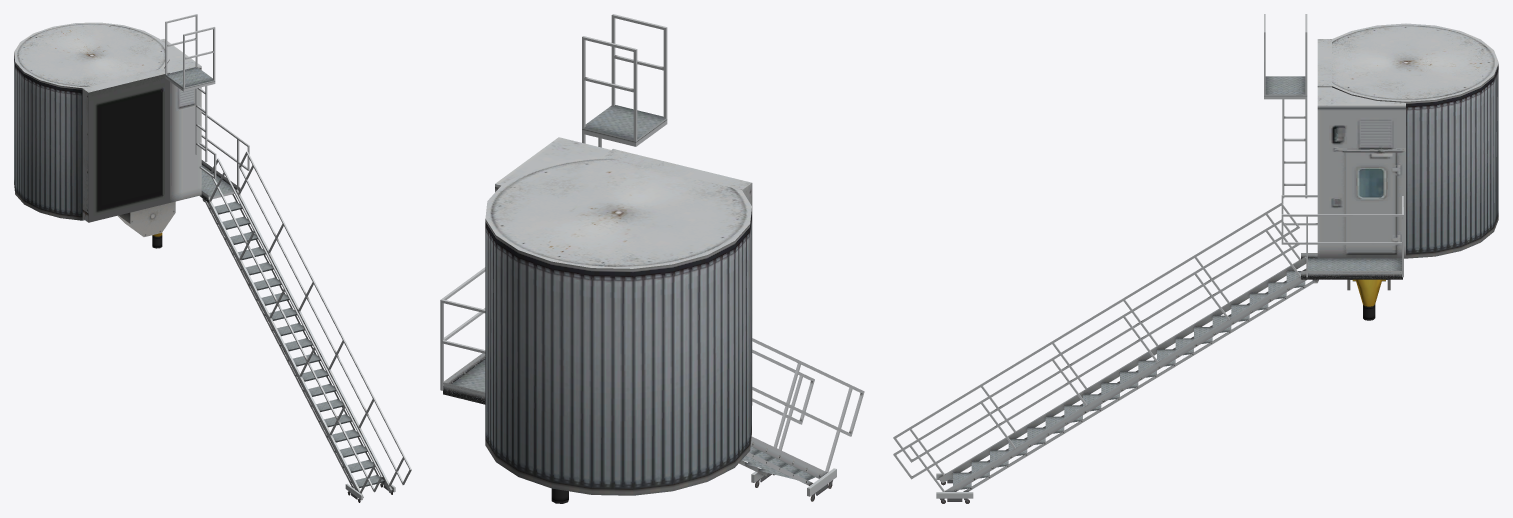
The model's file is jw_cabin_1b.gltf.
The picture shows the model from 3 angles, left to right: view 1: azimuth 30°, elevation 25°; view 2: azimuth 150°, elevation 25°; view 3: azimuth 270°, elevation 25°; orthographic projection. The views are drawn at different scales.
Visible parts, largest first — view 1: jw_cabin_1b; view 2: jw_cabin_1b; view 3: jw_cabin_1b.
Part boxes in pixels (x1,y1,x2,y2): jw_cabin_1b: [14, 14, 411, 502]; jw_cabin_1b: [440, 14, 864, 503]; jw_cabin_1b: [893, 14, 1498, 503].
Size of the model in its own units: 3.83 by 7.99 by 9.8.
